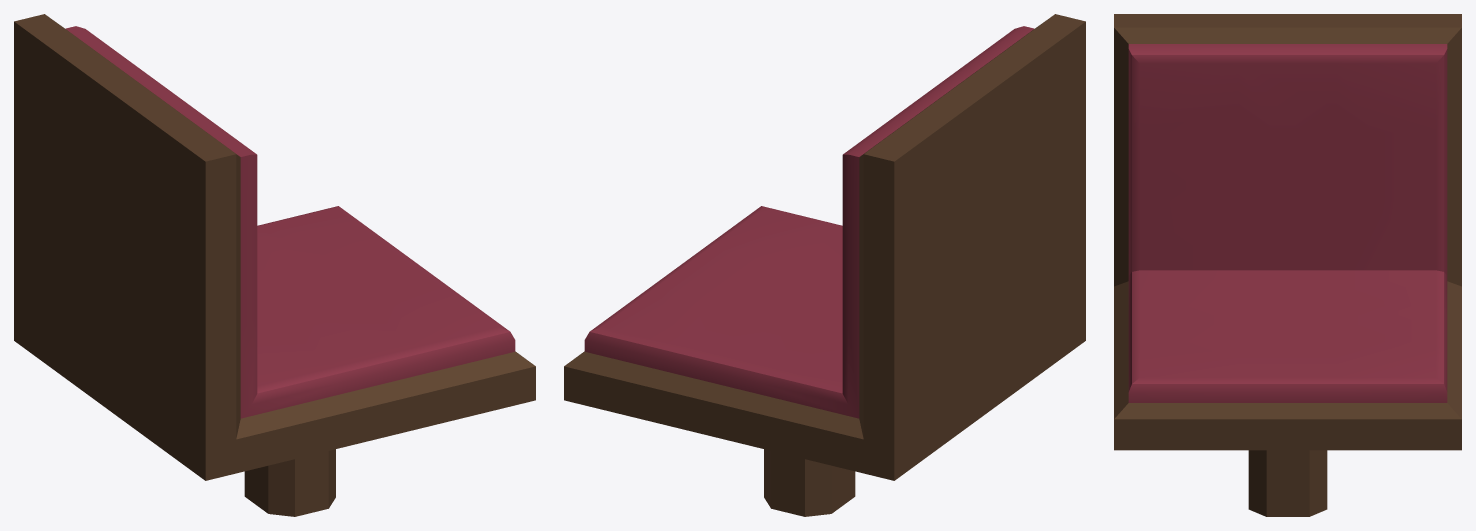
File: TrainSeat.fbx
3 views of the same model, side by side, from view 1: azimuth 30°, elevation 25°; view 2: azimuth 150°, elevation 25°; view 3: azimuth 270°, elevation 25° (orthographic). The views are drawn at different scales.
Visible parts, largest first — view 1: pCube22; view 2: pCube22; view 3: pCube22.
Part boxes in pixels (bbox=[...]): pCube22: bbox=[14, 14, 535, 516]; pCube22: bbox=[564, 14, 1085, 516]; pCube22: bbox=[1114, 14, 1461, 516].
Bounding box in the file's own units: 62.66 × 81.46 × 62.92.
